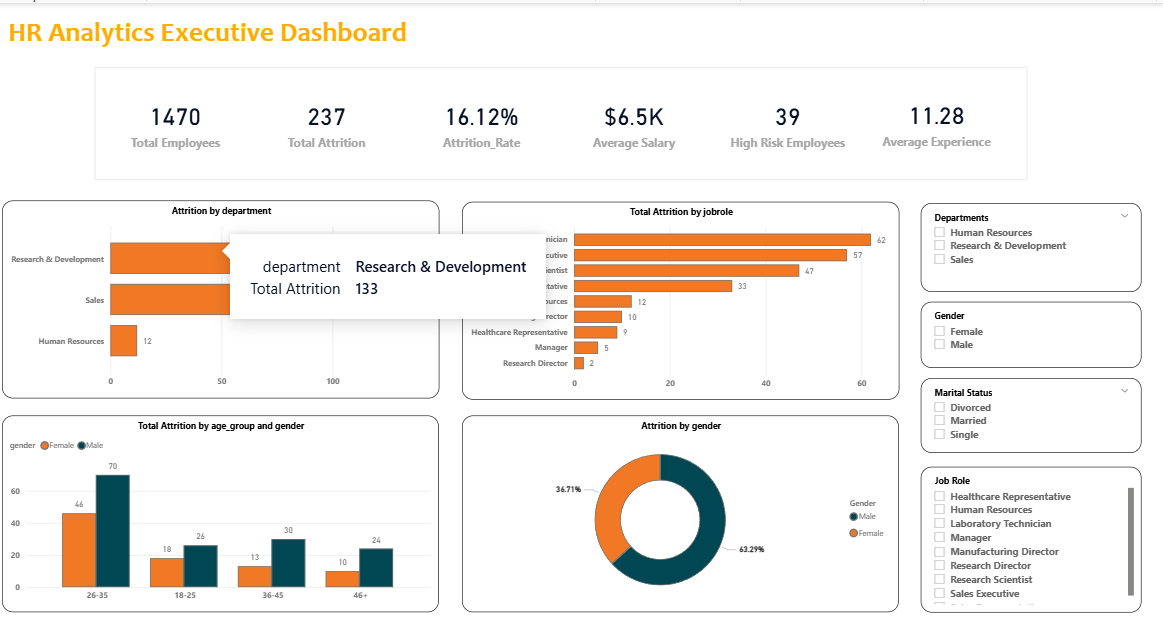

This screenshot's page, from the dashboard's own definition file:
{"tool":"powerbi","page":{"name":"Executive Summary","canvas":[1600,900],"ordinal":0},"visuals":[{"type":"shape","box":[134,86.6,1273.3,154.8],"z":0},{"type":"card","fields":{"Values":["Measure_Table.Total Employees"]},"box":[150.4,103.8,187,120],"z":1000},{"type":"card","fields":{"Values":["Measure_Table.Attrition_Rate"]},"box":[569.4,104.6,187,120],"z":2000},{"type":"card","fields":{"Values":["Measure_Table.Average Salary"]},"box":[776.7,103.8,187,120],"z":3000},{"type":"card","fields":{"Values":["Measure_Table.Total Attrition"]},"box":[356.9,103.8,187,120],"z":4000},{"type":"card","fields":{"Values":["Measure_Table.Average Experience"]},"box":[1190.8,102.4,187,120],"z":5000},{"type":"card","fields":{"Values":["Measure_Table.High Risk Employees"]},"box":[987,103.9,187,120],"z":6000},{"type":"donutChart","title":"Attrition by gender","fields":{"Category":["public employee_attrition.gender"],"Y":["Measure_Table.Total Attrition"]},"box":[635.3,563.8,597.2,268.6],"z":7000},{"type":"clusteredBarChart","title":"Attrition by department","fields":{"Category":["public employee_attrition.department"],"Y":["Measure_Table.Total Attrition"]},"box":[6.6,270.6,597.8,270.4],"z":8000},{"type":"barChart","fields":{"Category":["public employee_attrition.jobrole"],"Y":["Measure_Table.Total Attrition"]},"box":[635.7,271.9,597.8,270.4],"z":9000},{"type":"clusteredColumnChart","fields":{"Category":["public vw_employee_analysis.age_group"],"Y":["Measure_Table.Total Attrition"],"Series":["public employee_attrition.gender"]},"box":[6.6,563.8,597.2,268.6],"z":10000},{"type":"slicer","fields":{"Values":["public employee_attrition.department"]},"box":[1262.5,273.1,301.7,121.6],"z":11000},{"type":"slicer","fields":{"Values":["public employee_attrition.gender"]},"box":[1262.2,407.6,301.7,90],"z":12000},{"type":"slicer","fields":{"Values":["public employee_attrition.maritalstatus"]},"box":[1262.5,511.6,301.7,102.7],"z":13000},{"type":"slicer","fields":{"Values":["public employee_attrition.jobrole"]},"box":[1262.2,633.5,301.7,199.1],"z":14000},{"type":"textbox","box":[9.5,12.6,668.2,72.7],"z":15000}]}

Visuals, with their boxes on the page's 1600x900 design canvas (x1, y1, x2, y2). These are canvas units, not pixel positions in the 1163x632 screenshot, which may show the page scaled, cropped or inside an application window:
shape: left=134, top=87, right=1407, bottom=241
card - Measure_Table.Total Employees: left=150, top=104, right=337, bottom=224
card - Measure_Table.Attrition_Rate: left=569, top=105, right=756, bottom=225
card - Measure_Table.Average Salary: left=777, top=104, right=964, bottom=224
card - Measure_Table.Total Attrition: left=357, top=104, right=544, bottom=224
card - Measure_Table.Average Experience: left=1191, top=102, right=1378, bottom=222
card - Measure_Table.High Risk Employees: left=987, top=104, right=1174, bottom=224
"Attrition by gender" donutChart: left=635, top=564, right=1232, bottom=832
"Attrition by department" clusteredBarChart: left=7, top=271, right=604, bottom=541
barChart - public employee_attrition.jobrole x Measure_Table.Total Attrition: left=636, top=272, right=1234, bottom=542
clusteredColumnChart - public vw_employee_analysis.age_group x Measure_Table.Total Attrition: left=7, top=564, right=604, bottom=832
slicer - public employee_attrition.department: left=1262, top=273, right=1564, bottom=395
slicer - public employee_attrition.gender: left=1262, top=408, right=1564, bottom=498
slicer - public employee_attrition.maritalstatus: left=1262, top=512, right=1564, bottom=614
slicer - public employee_attrition.jobrole: left=1262, top=634, right=1564, bottom=833
textbox: left=10, top=13, right=678, bottom=85
